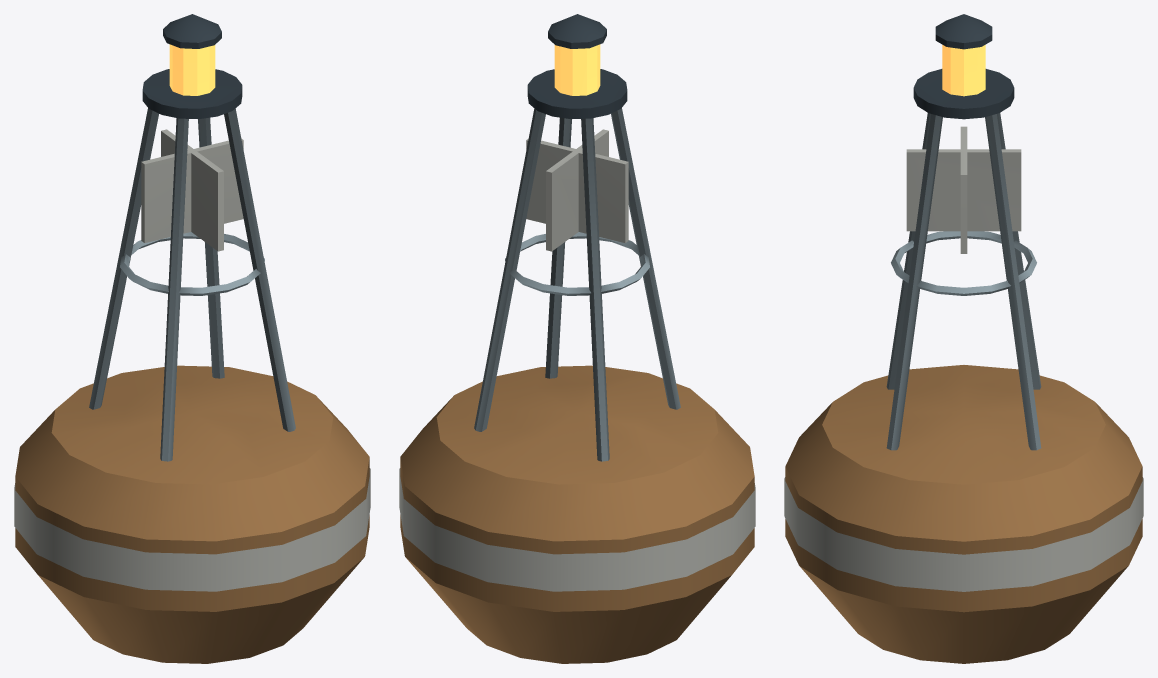
File: harbour-buoy.lod0.glb
The picture shows the model from 3 angles, left to right: view 1: azimuth 30°, elevation 25°; view 2: azimuth 150°, elevation 25°; view 3: azimuth 270°, elevation 25°; orthographic projection.
Parts seen in each view (by area): view 1: structure, lamp; view 2: structure, lamp; view 3: structure, lamp.
Boxes of the visible parts, box(x1,y1,x2,y2) form: structure: box(14, 69, 370, 663); lamp: box(163, 14, 221, 95); structure: box(399, 69, 755, 663); lamp: box(548, 14, 606, 95); structure: box(784, 69, 1143, 663); lamp: box(935, 14, 992, 96).
Size of the model in its own units: 1.57 by 2.95 by 1.57.
